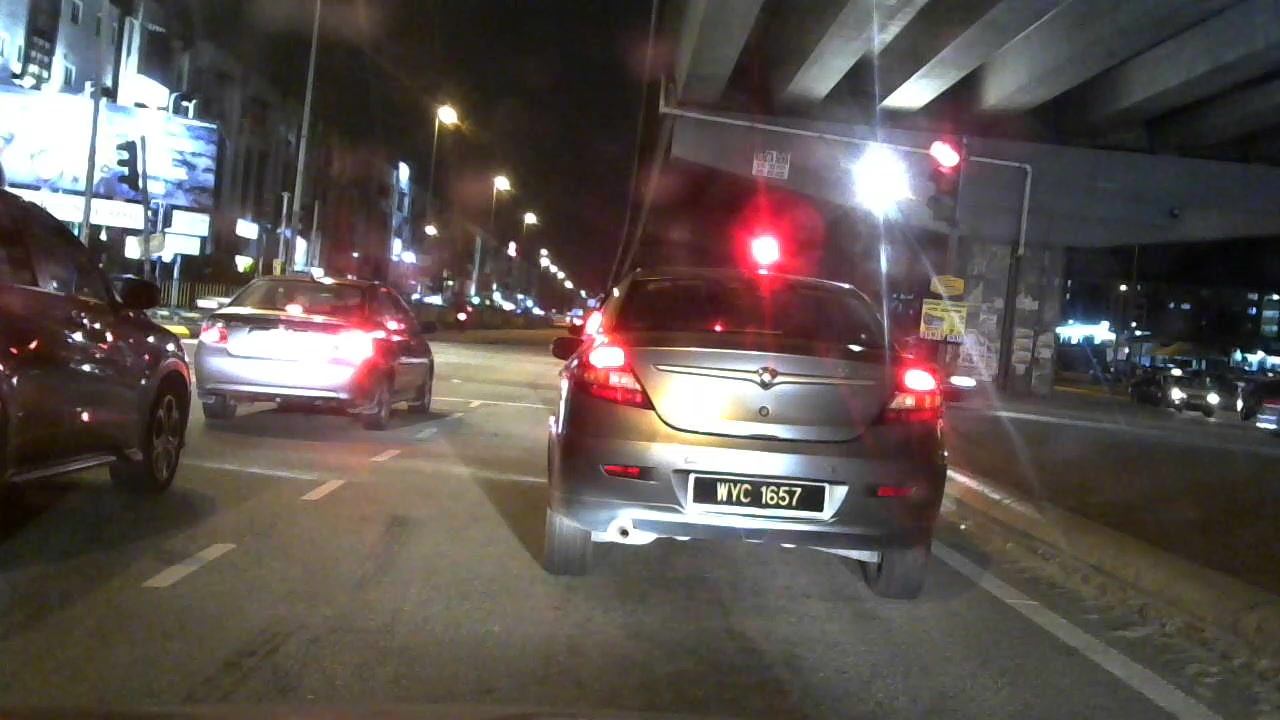Car: (543, 258, 968, 580), (1, 181, 199, 515), (188, 263, 451, 433), (1127, 352, 1218, 426)
